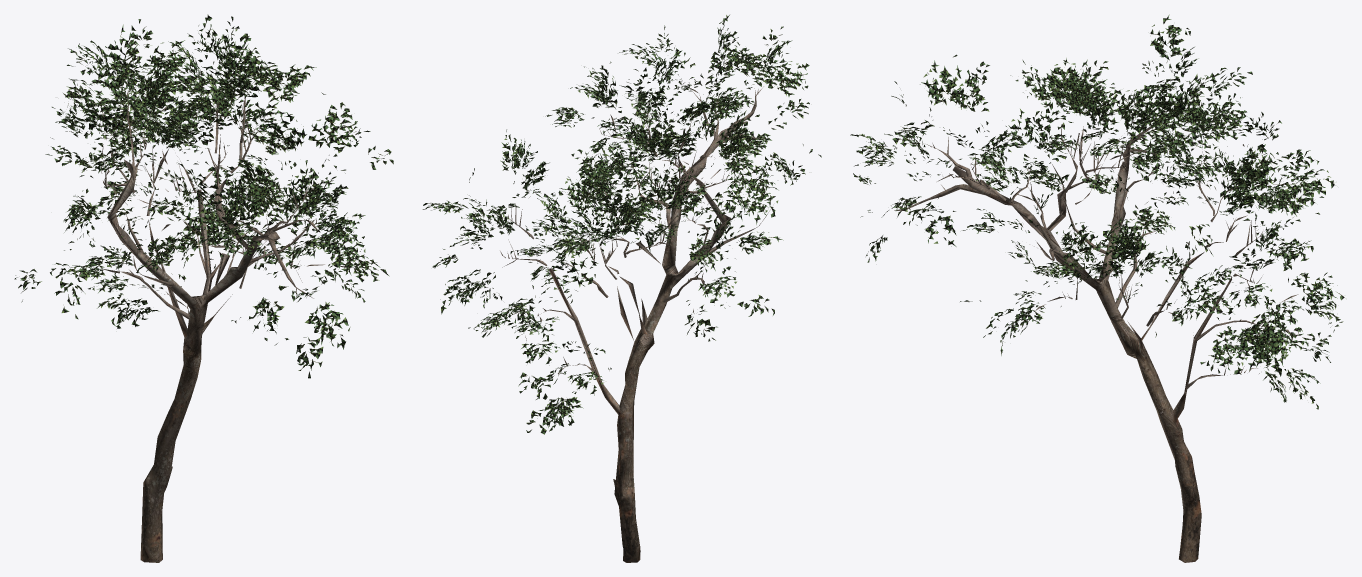
The model's file is tree_small_02-lod0.glb.
3 renders of one model, left to right at view 1: azimuth 30°, elevation 25°; view 2: azimuth 150°, elevation 25°; view 3: azimuth 270°, elevation 25°, orthographic. The views are drawn at different scales.
Visible parts, largest first — view 1: tree_small_02_LOD0; view 2: tree_small_02_LOD0; view 3: tree_small_02_LOD0.
Boxes of the visible parts, x1=… form: tree_small_02_LOD0: x1=14, y1=14, x2=393, y2=562; tree_small_02_LOD0: x1=422, y1=15, x2=821, y2=562; tree_small_02_LOD0: x1=850, y1=14, x2=1344, y2=562.
Size of the model in its own units: 5.68 by 8.97 by 8.02.
3 materials, 3 textured.
